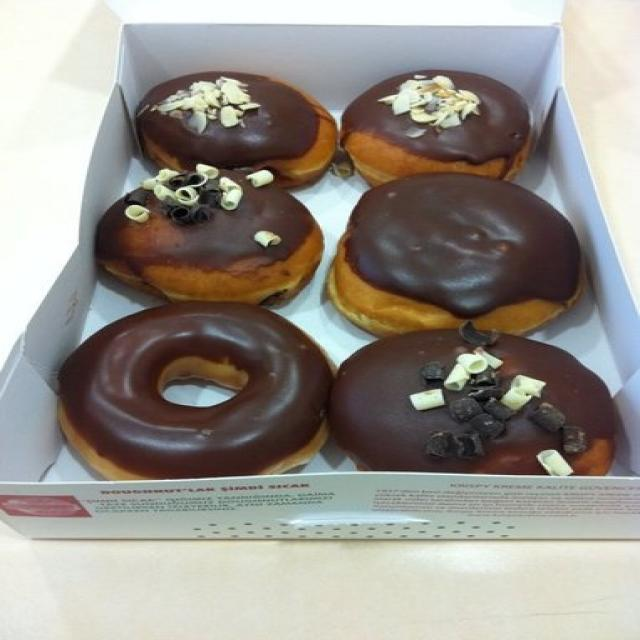Donuts: (32, 53, 640, 478)
